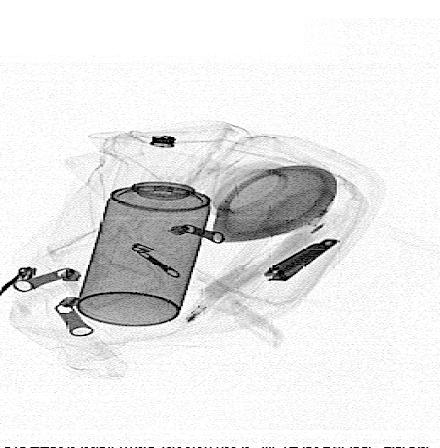Sprayer: (76, 150, 217, 326)
